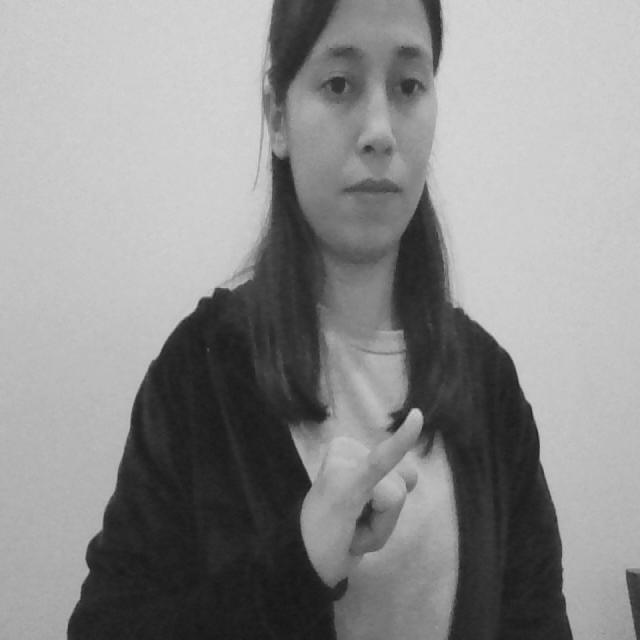kotu: (296, 393, 432, 583)
